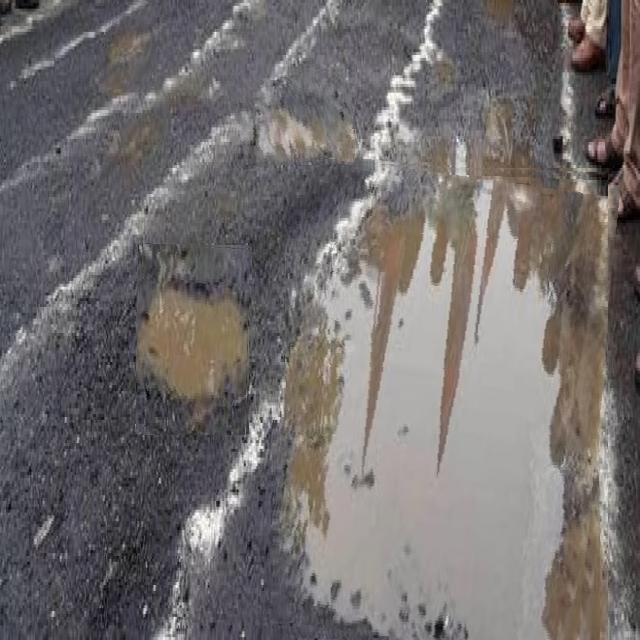Pothole: (272, 160, 608, 640), (137, 244, 250, 435), (231, 67, 355, 165), (101, 0, 154, 91)
